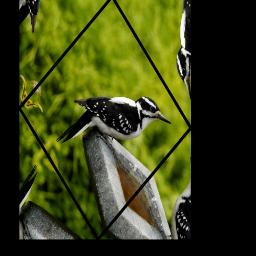Woodpecker: (49, 39, 174, 212)
